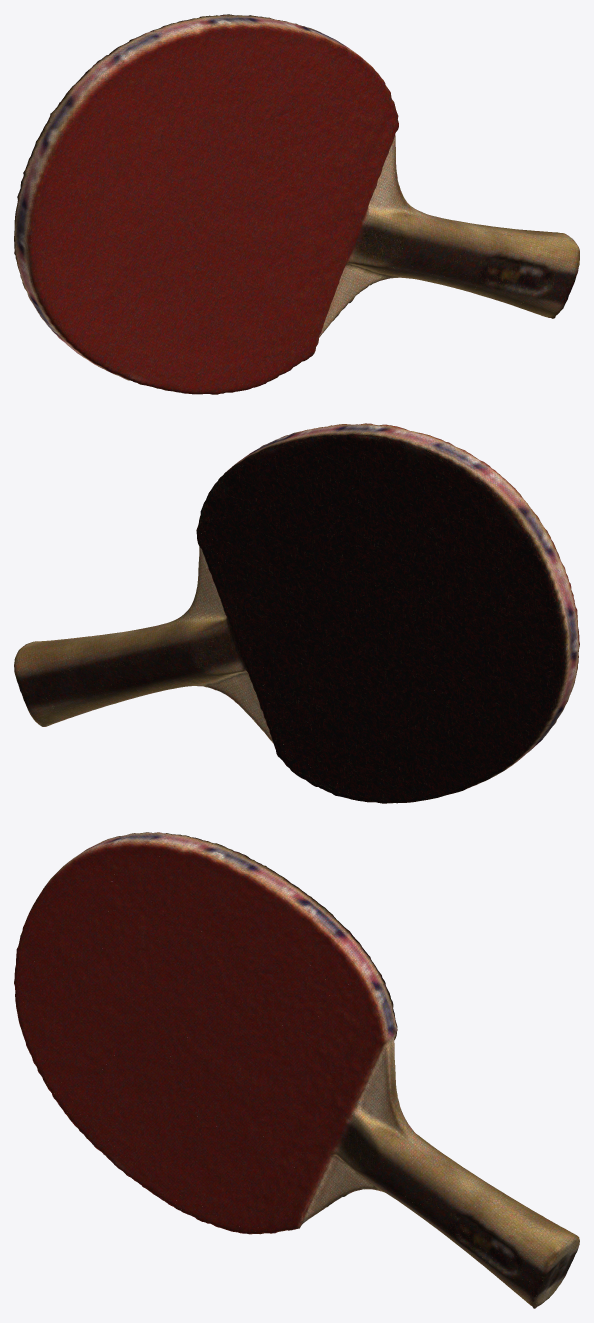
The picture shows the model from 3 angles, top to bottom: view 1: azimuth 30°, elevation 25°; view 2: azimuth 150°, elevation 25°; view 3: azimuth 330°, elevation 25°; orthographic projection.
Visible parts, largest first — view 1: Object_3, Object_2, Object_4, Object_5, Object_6; view 2: Object_2, Object_3, Object_4, Object_5, Object_6; view 3: Object_3, Object_2, Object_4, Object_5, Object_6.
Boxes of the visible parts, bbox=[...] form: Object_3: bbox=[14, 14, 568, 394]; Object_2: bbox=[15, 17, 573, 381]; Object_4: bbox=[14, 15, 579, 394]; Object_5: bbox=[14, 21, 579, 388]; Object_6: bbox=[14, 35, 500, 348]; Object_2: bbox=[17, 425, 579, 776]; Object_3: bbox=[18, 424, 579, 801]; Object_4: bbox=[14, 423, 579, 803]; Object_5: bbox=[14, 436, 578, 798]; Object_6: bbox=[107, 460, 578, 775]; Object_3: bbox=[18, 832, 576, 1308]; Object_2: bbox=[14, 833, 577, 1289]; Object_4: bbox=[14, 832, 579, 1280]; Object_5: bbox=[15, 833, 579, 1306]; Object_6: bbox=[15, 891, 486, 1211].
Size of the model in its own units: 248 by 161 by 24.45.
1 material, 1 textured.
